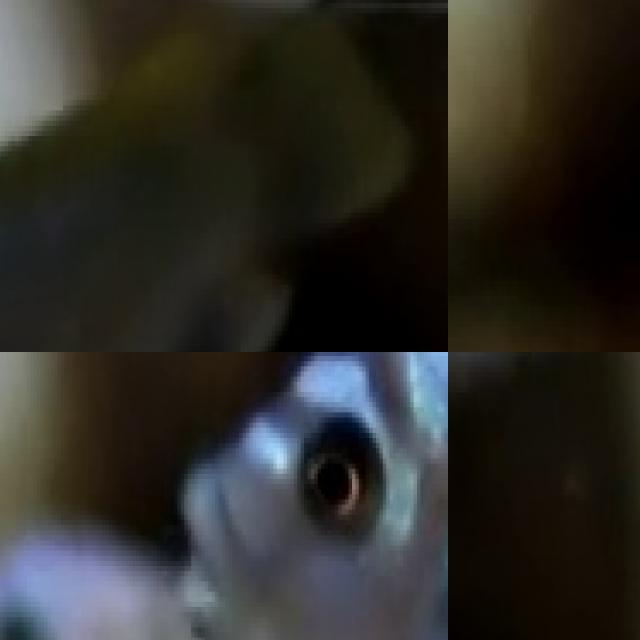fish: (0, 0, 448, 352)
